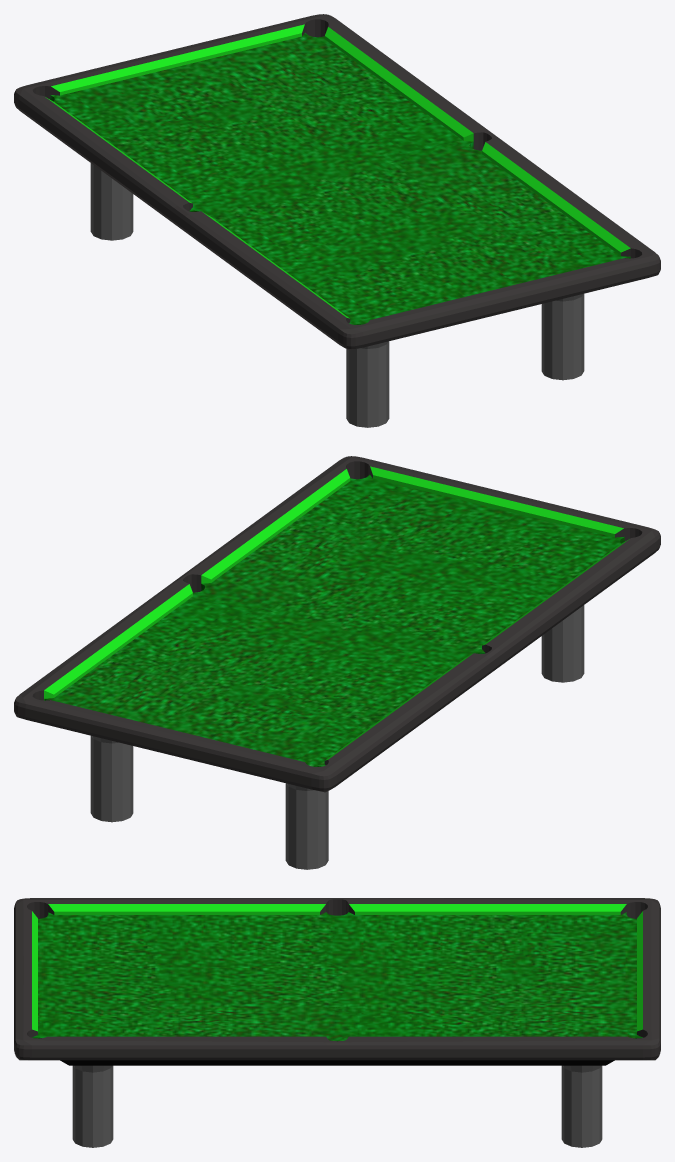
File: SnokkerTable.fbx
The picture shows the model from 3 angles, top to bottom: view 1: azimuth 30°, elevation 25°; view 2: azimuth 150°, elevation 25°; view 3: azimuth 270°, elevation 25°; orthographic projection. The views are drawn at different scales.
Visible parts, largest first — view 1: 平面, 平面.001, 柱体; view 2: 平面, 平面.001, 柱体; view 3: 平面, 平面.001, 柱体, 立方体.
Part boxes in pixels (x1,y1,x2,y2): 平面: (50, 32, 630, 324); 平面.001: (14, 14, 660, 350); 柱体: (90, 163, 584, 427); 平面: (44, 474, 624, 766); 平面.001: (14, 456, 660, 792); 柱体: (90, 605, 584, 869); 平面: (32, 912, 642, 1041); 平面.001: (14, 898, 660, 1060); 柱体: (72, 1065, 602, 1147); 立方体: (60, 1060, 614, 1065).
Size of the model in its own units: 1.41 by 0.5474 by 2.6.
